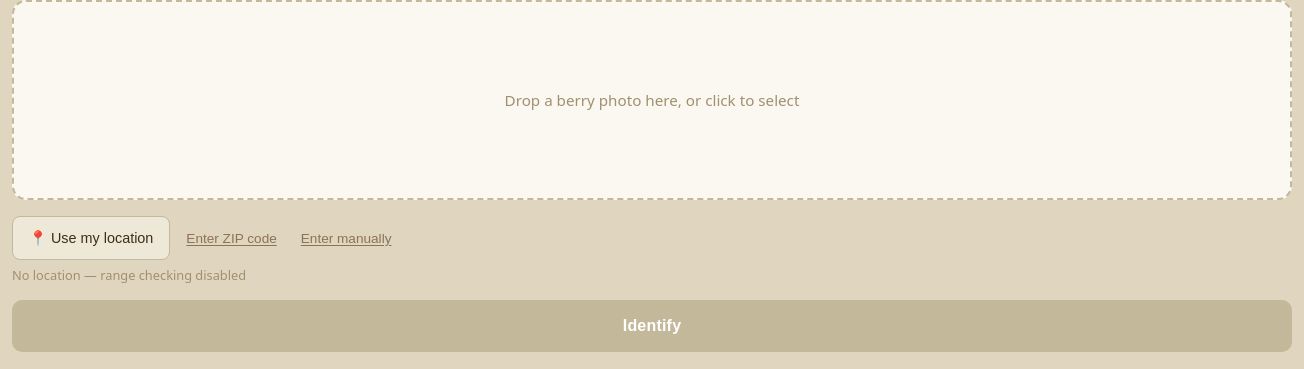
Test: GPS — Use my location › populates coordinates on successful geolocation
Click the button "📍 Use my location" at (91, 238), box 12,216 -> 170,260
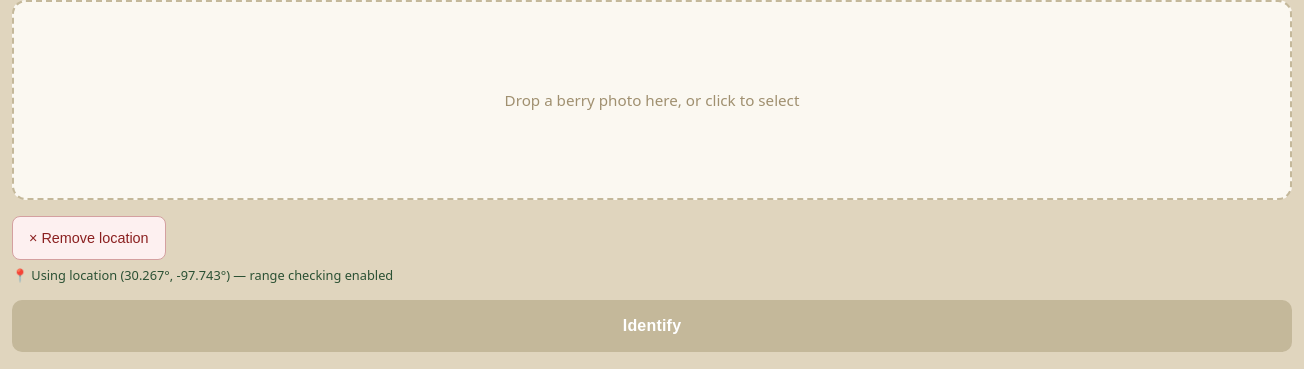
Expected: the text "Using location" is shown, 12,266 -> 393,284
